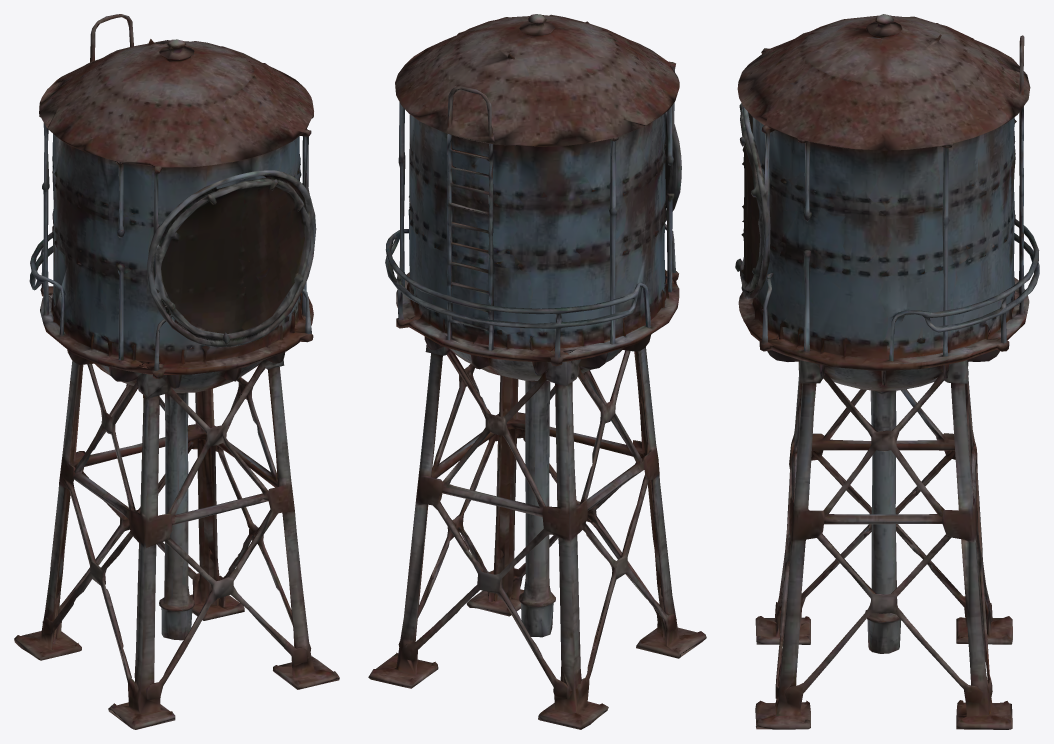
The model's file is lm_watertower.glb.
The picture shows the model from 3 angles, left to right: view 1: azimuth 30°, elevation 25°; view 2: azimuth 150°, elevation 25°; view 3: azimuth 270°, elevation 25°; orthographic projection. The views are drawn at different scales.
Visible parts, largest first — view 1: geometry_0; view 2: geometry_0; view 3: geometry_0.
Part boxes in pixels (x1,y1,x2,y2): geometry_0: [14, 14, 339, 729]; geometry_0: [368, 14, 706, 729]; geometry_0: [735, 14, 1039, 729].
Bounding box in the file's own units: 0.4005 × 1 × 0.4171.
Materials: 1 (1 with a texture image).
